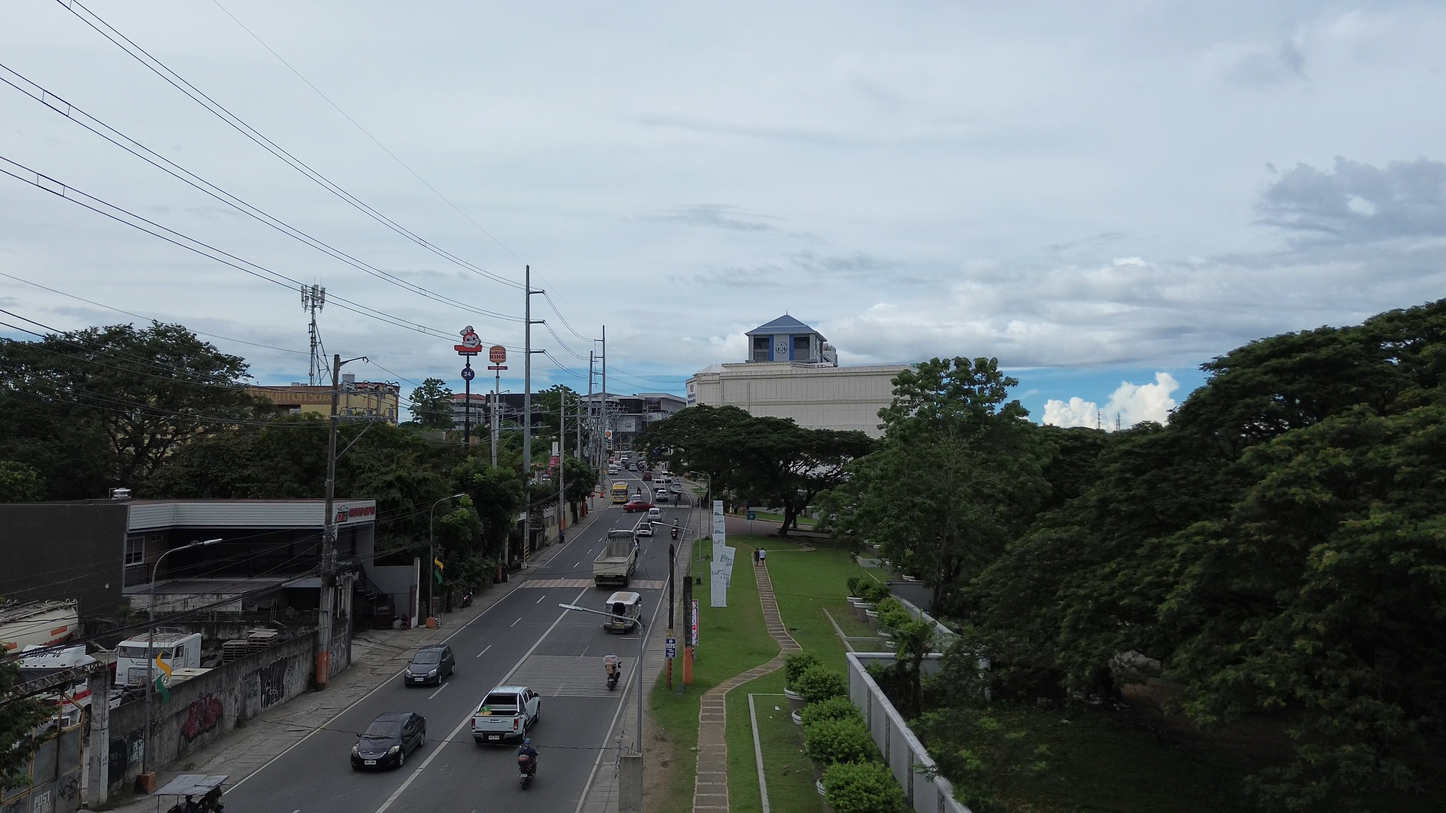car: (623, 498, 654, 512), (635, 519, 653, 536), (654, 488, 670, 504), (668, 481, 682, 494)
motorcycle: (517, 753, 536, 789)
truck: (593, 530, 638, 586)
vehicle: (116, 630, 200, 685), (352, 712, 426, 770), (0, 600, 78, 653), (472, 686, 540, 743), (18, 644, 96, 682), (404, 644, 454, 685), (603, 592, 641, 633), (517, 738, 537, 789), (604, 654, 621, 690), (624, 496, 655, 512), (611, 482, 628, 504), (634, 520, 653, 536), (654, 488, 670, 504), (647, 506, 661, 521), (668, 480, 682, 494), (607, 463, 620, 475), (641, 470, 652, 481), (626, 462, 635, 471)
